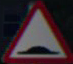Speed Breaker ahead: (6, 8, 61, 57)
